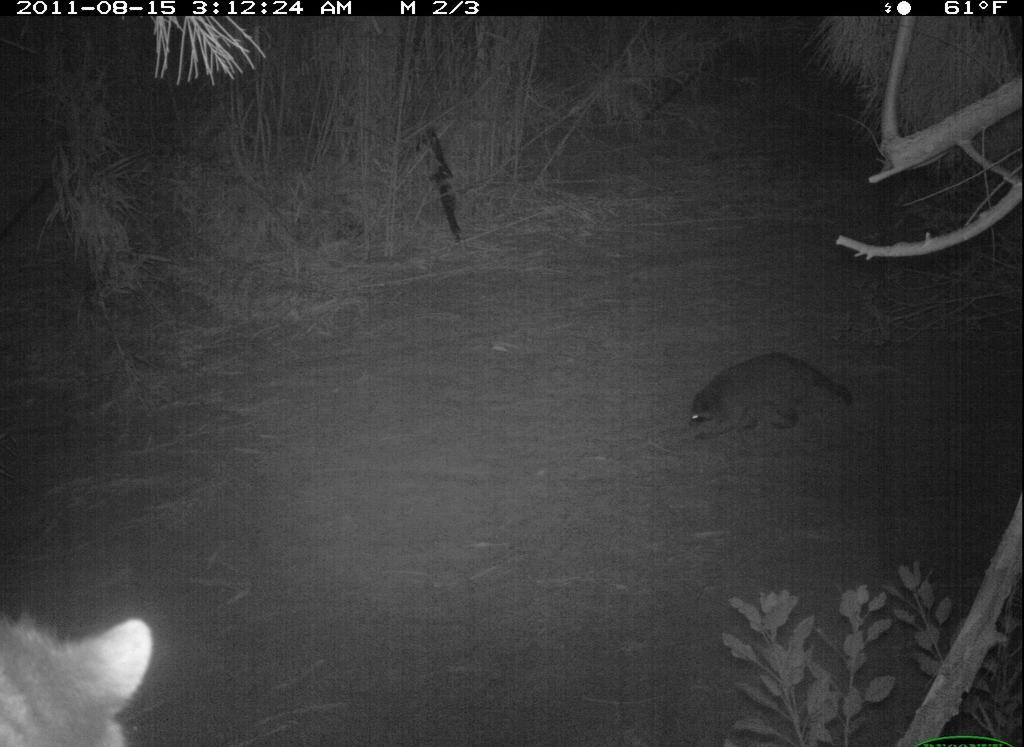raccoon: (680, 344, 862, 461)
